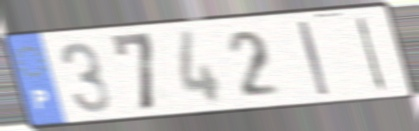2: (227, 27, 283, 100)
3: (60, 40, 112, 114)
4: (179, 27, 228, 108)
7: (107, 30, 159, 114)
I: (295, 19, 332, 98), (354, 14, 389, 94)
